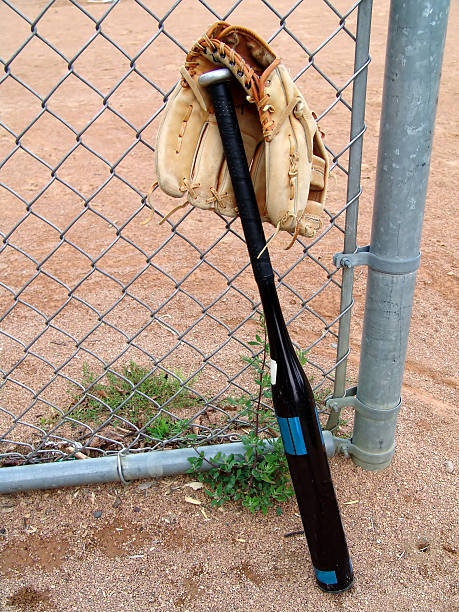bita: (201, 67, 353, 593)
